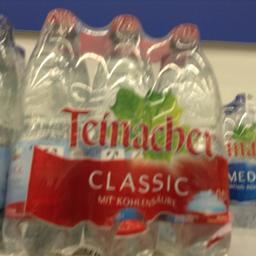water: (6, 6, 88, 255), (151, 22, 232, 255), (87, 10, 154, 255)
